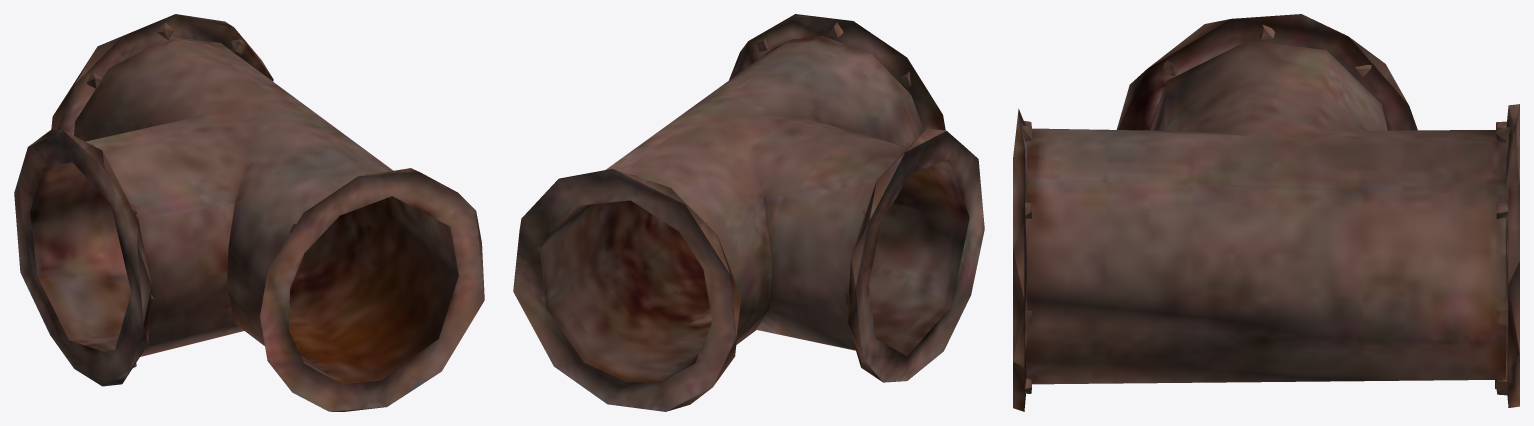
File: rusty_pipe_09.glb
3 renders of one model, left to right at view 1: azimuth 30°, elevation 25°; view 2: azimuth 150°, elevation 25°; view 3: azimuth 270°, elevation 25°, orthographic. The views are drawn at different scales.
Parts seen in each view (by area): view 1: rusty_pipe_09; view 2: rusty_pipe_09; view 3: rusty_pipe_09.
Part boxes in pixels (bbox=[...]): rusty_pipe_09: bbox=[14, 14, 484, 411]; rusty_pipe_09: bbox=[513, 14, 984, 411]; rusty_pipe_09: bbox=[1013, 14, 1519, 411].
Size of what is drawn, in the model's own units: 0.0382 by 0.0287 by 0.0478.
Materials: 1 (1 with a texture image).
